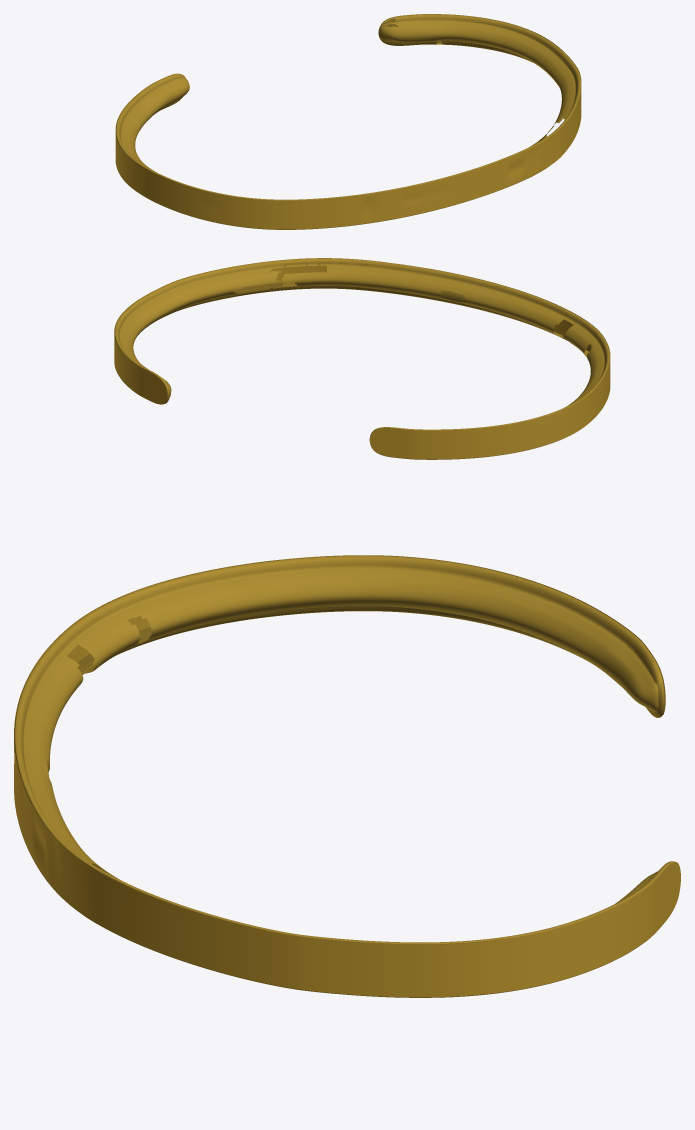
Rendered from bangle-bold1.glb.
3 views of the same model, one above another, from view 1: azimuth 30°, elevation 25°; view 2: azimuth 150°, elevation 25°; view 3: azimuth 270°, elevation 25° (orthographic). The views are drawn at different scales.
Parts seen in each view (by area): view 1: BézierCurve.012, BézierCurve.013; view 2: BézierCurve.013, BézierCurve.012; view 3: BézierCurve.013, BézierCurve.012.
Boxes of the visible parts, x1,y1,x2,y2 form: BézierCurve.012: (115, 14, 581, 229); BézierCurve.013: (115, 14, 581, 229); BézierCurve.013: (114, 258, 609, 459); BézierCurve.012: (114, 258, 610, 459); BézierCurve.013: (14, 555, 674, 997); BézierCurve.012: (14, 555, 680, 997).
Size of the model in its own units: 4.43 by 0.2297 by 2.12.
3 materials, 2 textured.
